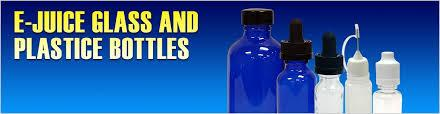Container for household chemicals: (217, 6, 439, 114)
